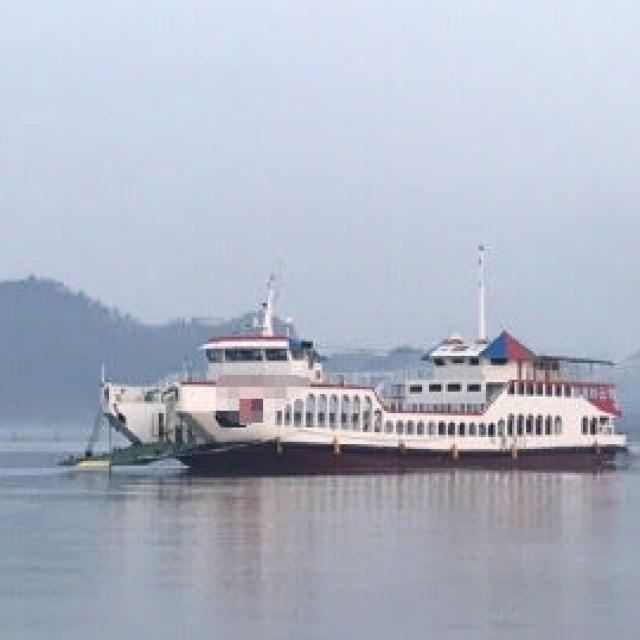passenger ship: (140, 298, 640, 464)
